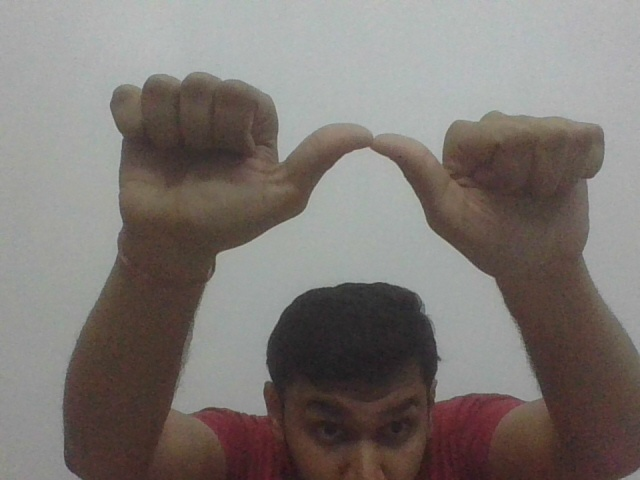A: (108, 64, 619, 254)
